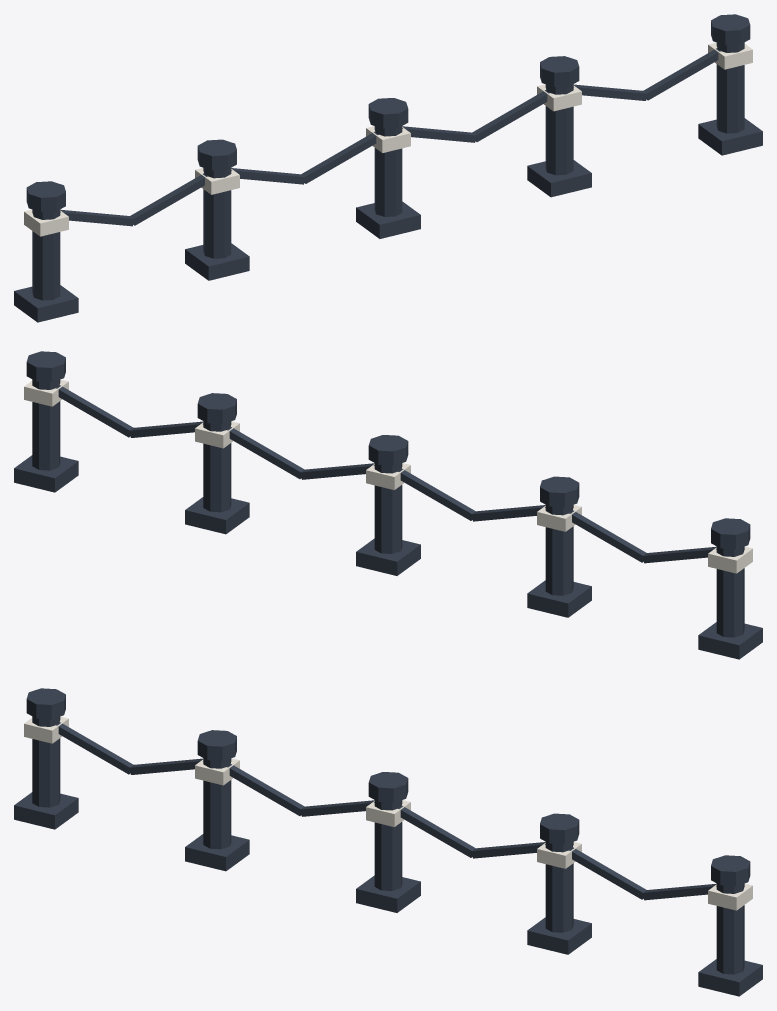
Rendered from cittaDissuasori.glb.
The picture shows the model from 3 angles, top to bottom: view 1: azimuth 30°, elevation 25°; view 2: azimuth 150°, elevation 25°; view 3: azimuth 330°, elevation 25°; orthographic projection.
Parts seen in each view (by area): view 1: cittaDissuasori_steelDark, cittaDissuasori_white; view 2: cittaDissuasori_steelDark, cittaDissuasori_white; view 3: cittaDissuasori_steelDark, cittaDissuasori_white.
Part boxes in pixels (x1,y1,x2,y2): cittaDissuasori_steelDark: (14,14,762,322); cittaDissuasori_white: (24,42,752,236); cittaDissuasori_steelDark: (14,351,762,659); cittaDissuasori_white: (24,379,752,573); cittaDissuasori_steelDark: (14,688,762,996); cittaDissuasori_white: (24,716,752,910).
Bounding box in the file's own units: 6.36 × 1 × 0.36.
